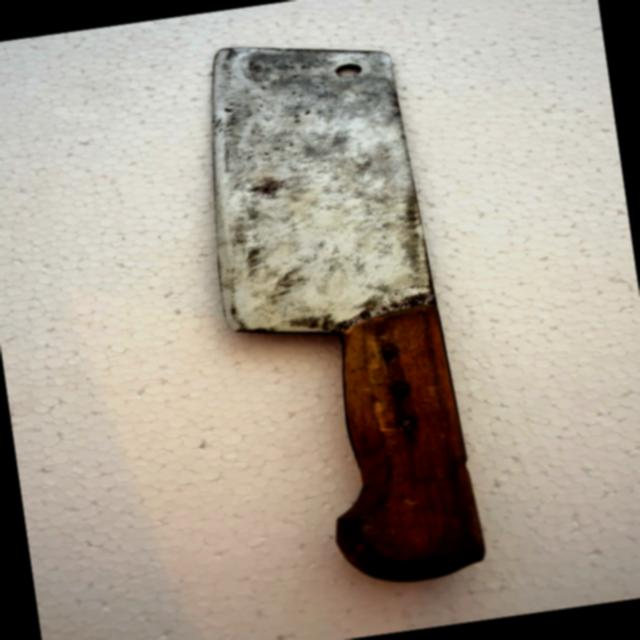cleaver: (202, 24, 474, 598)
